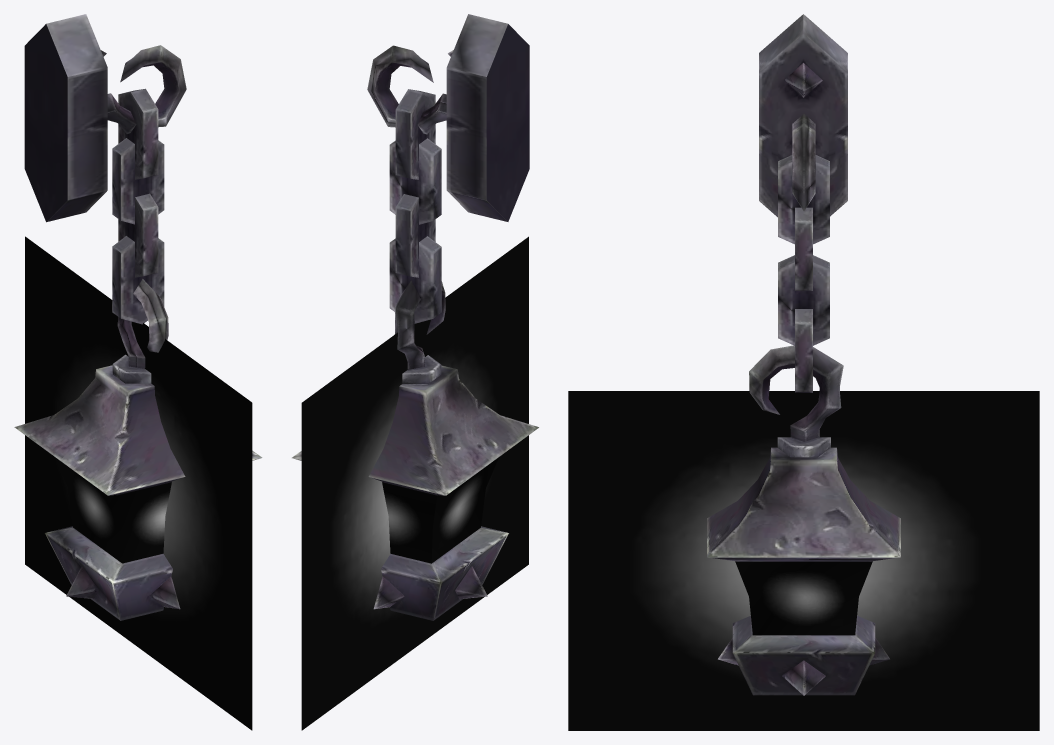
3 views of the same model, side by side, from view 1: azimuth 30°, elevation 25°; view 2: azimuth 150°, elevation 25°; view 3: azimuth 270°, elevation 25° (orthographic). The views are drawn at different scales.
Bounding box in the file's own units: 0.5936 × 2.16 × 1.38.
2 materials, 2 textured.
